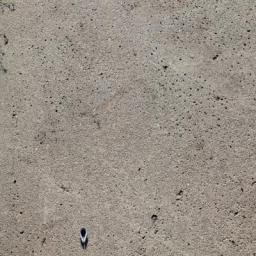FOD: (76, 223, 94, 256)
